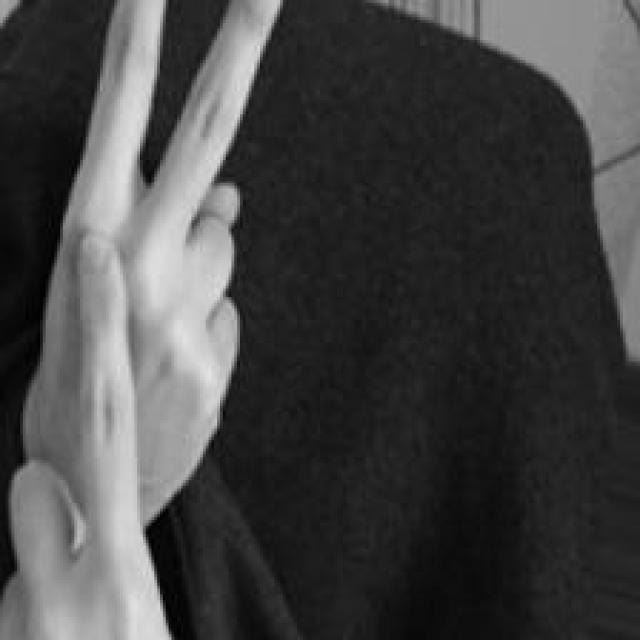Y: (5, 0, 282, 640)
